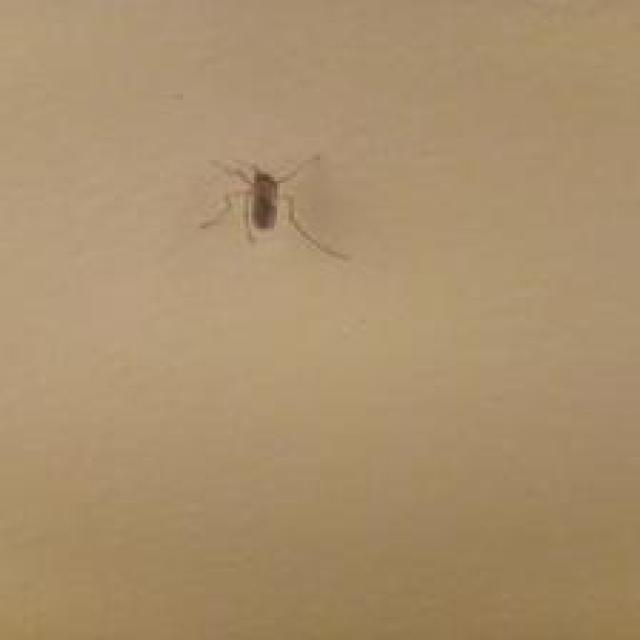Culex: (197, 150, 352, 261)
